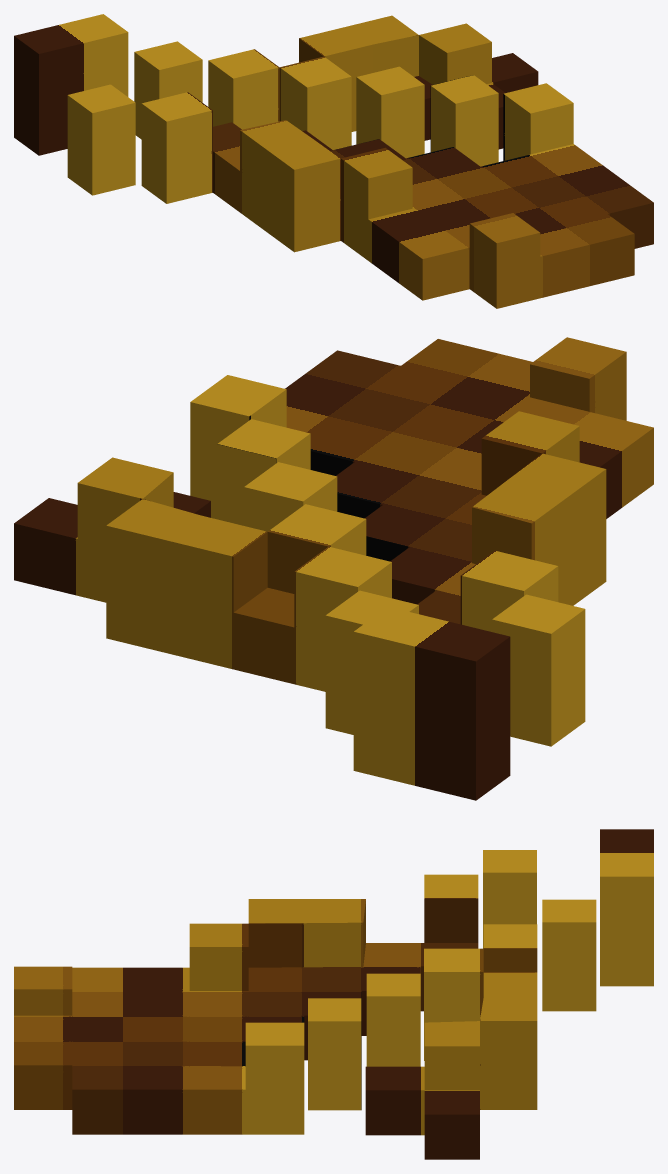
File: broken_dish_546x05.gltf
The picture shows the model from 3 angles, top to bottom: view 1: azimuth 30°, elevation 25°; view 2: azimuth 150°, elevation 25°; view 3: azimuth 270°, elevation 25°; orthographic projection. The views are drawn at different scales.
Visible parts, largest first — view 1: broken_dish_546x05; view 2: broken_dish_546x05; view 3: broken_dish_546x05.
Boxes of the visible parts, <box> form: broken_dish_546x05: <box>14,14,653,308</box>; broken_dish_546x05: <box>14,337,653,800</box>; broken_dish_546x05: <box>14,829,653,1159</box>.
Size of the model in its own units: 0.4179 by 0.0969 by 0.5119.
1 material, 1 textured.
